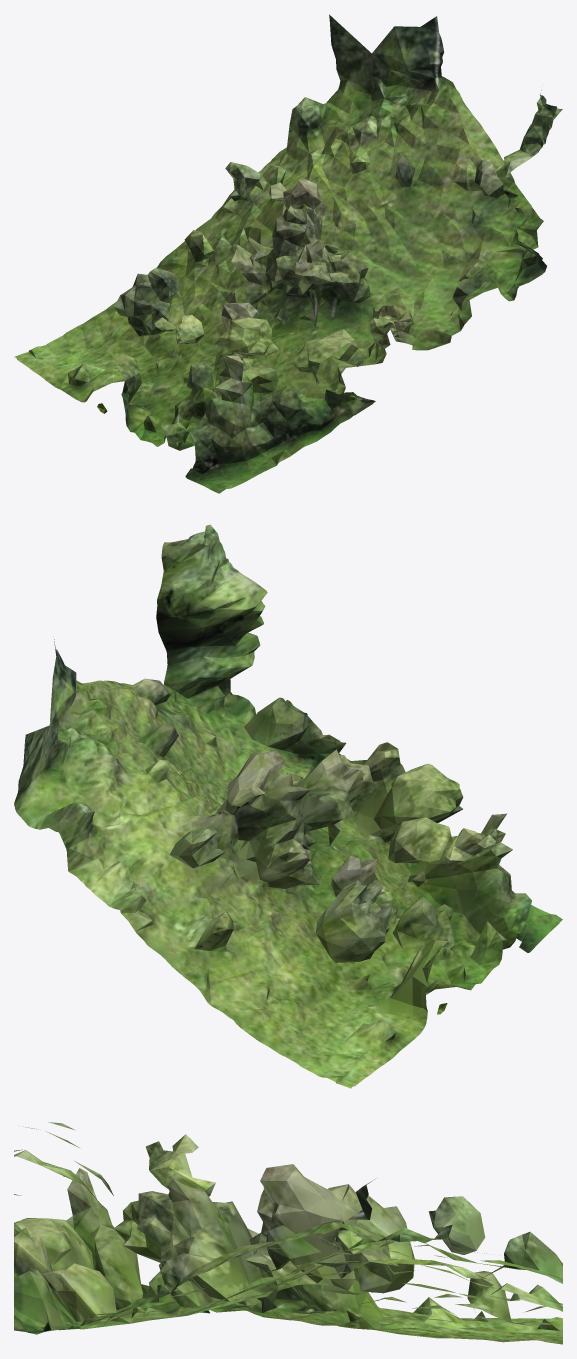
The picture shows the model from 3 angles, top to bottom: view 1: azimuth 30°, elevation 25°; view 2: azimuth 150°, elevation 25°; view 3: azimuth 270°, elevation 25°; orthographic projection. The views are drawn at different scales.
Size of the model in its own units: 52.22 by 44.2 by 52.22.
Materials: 5 (5 with a texture image).
